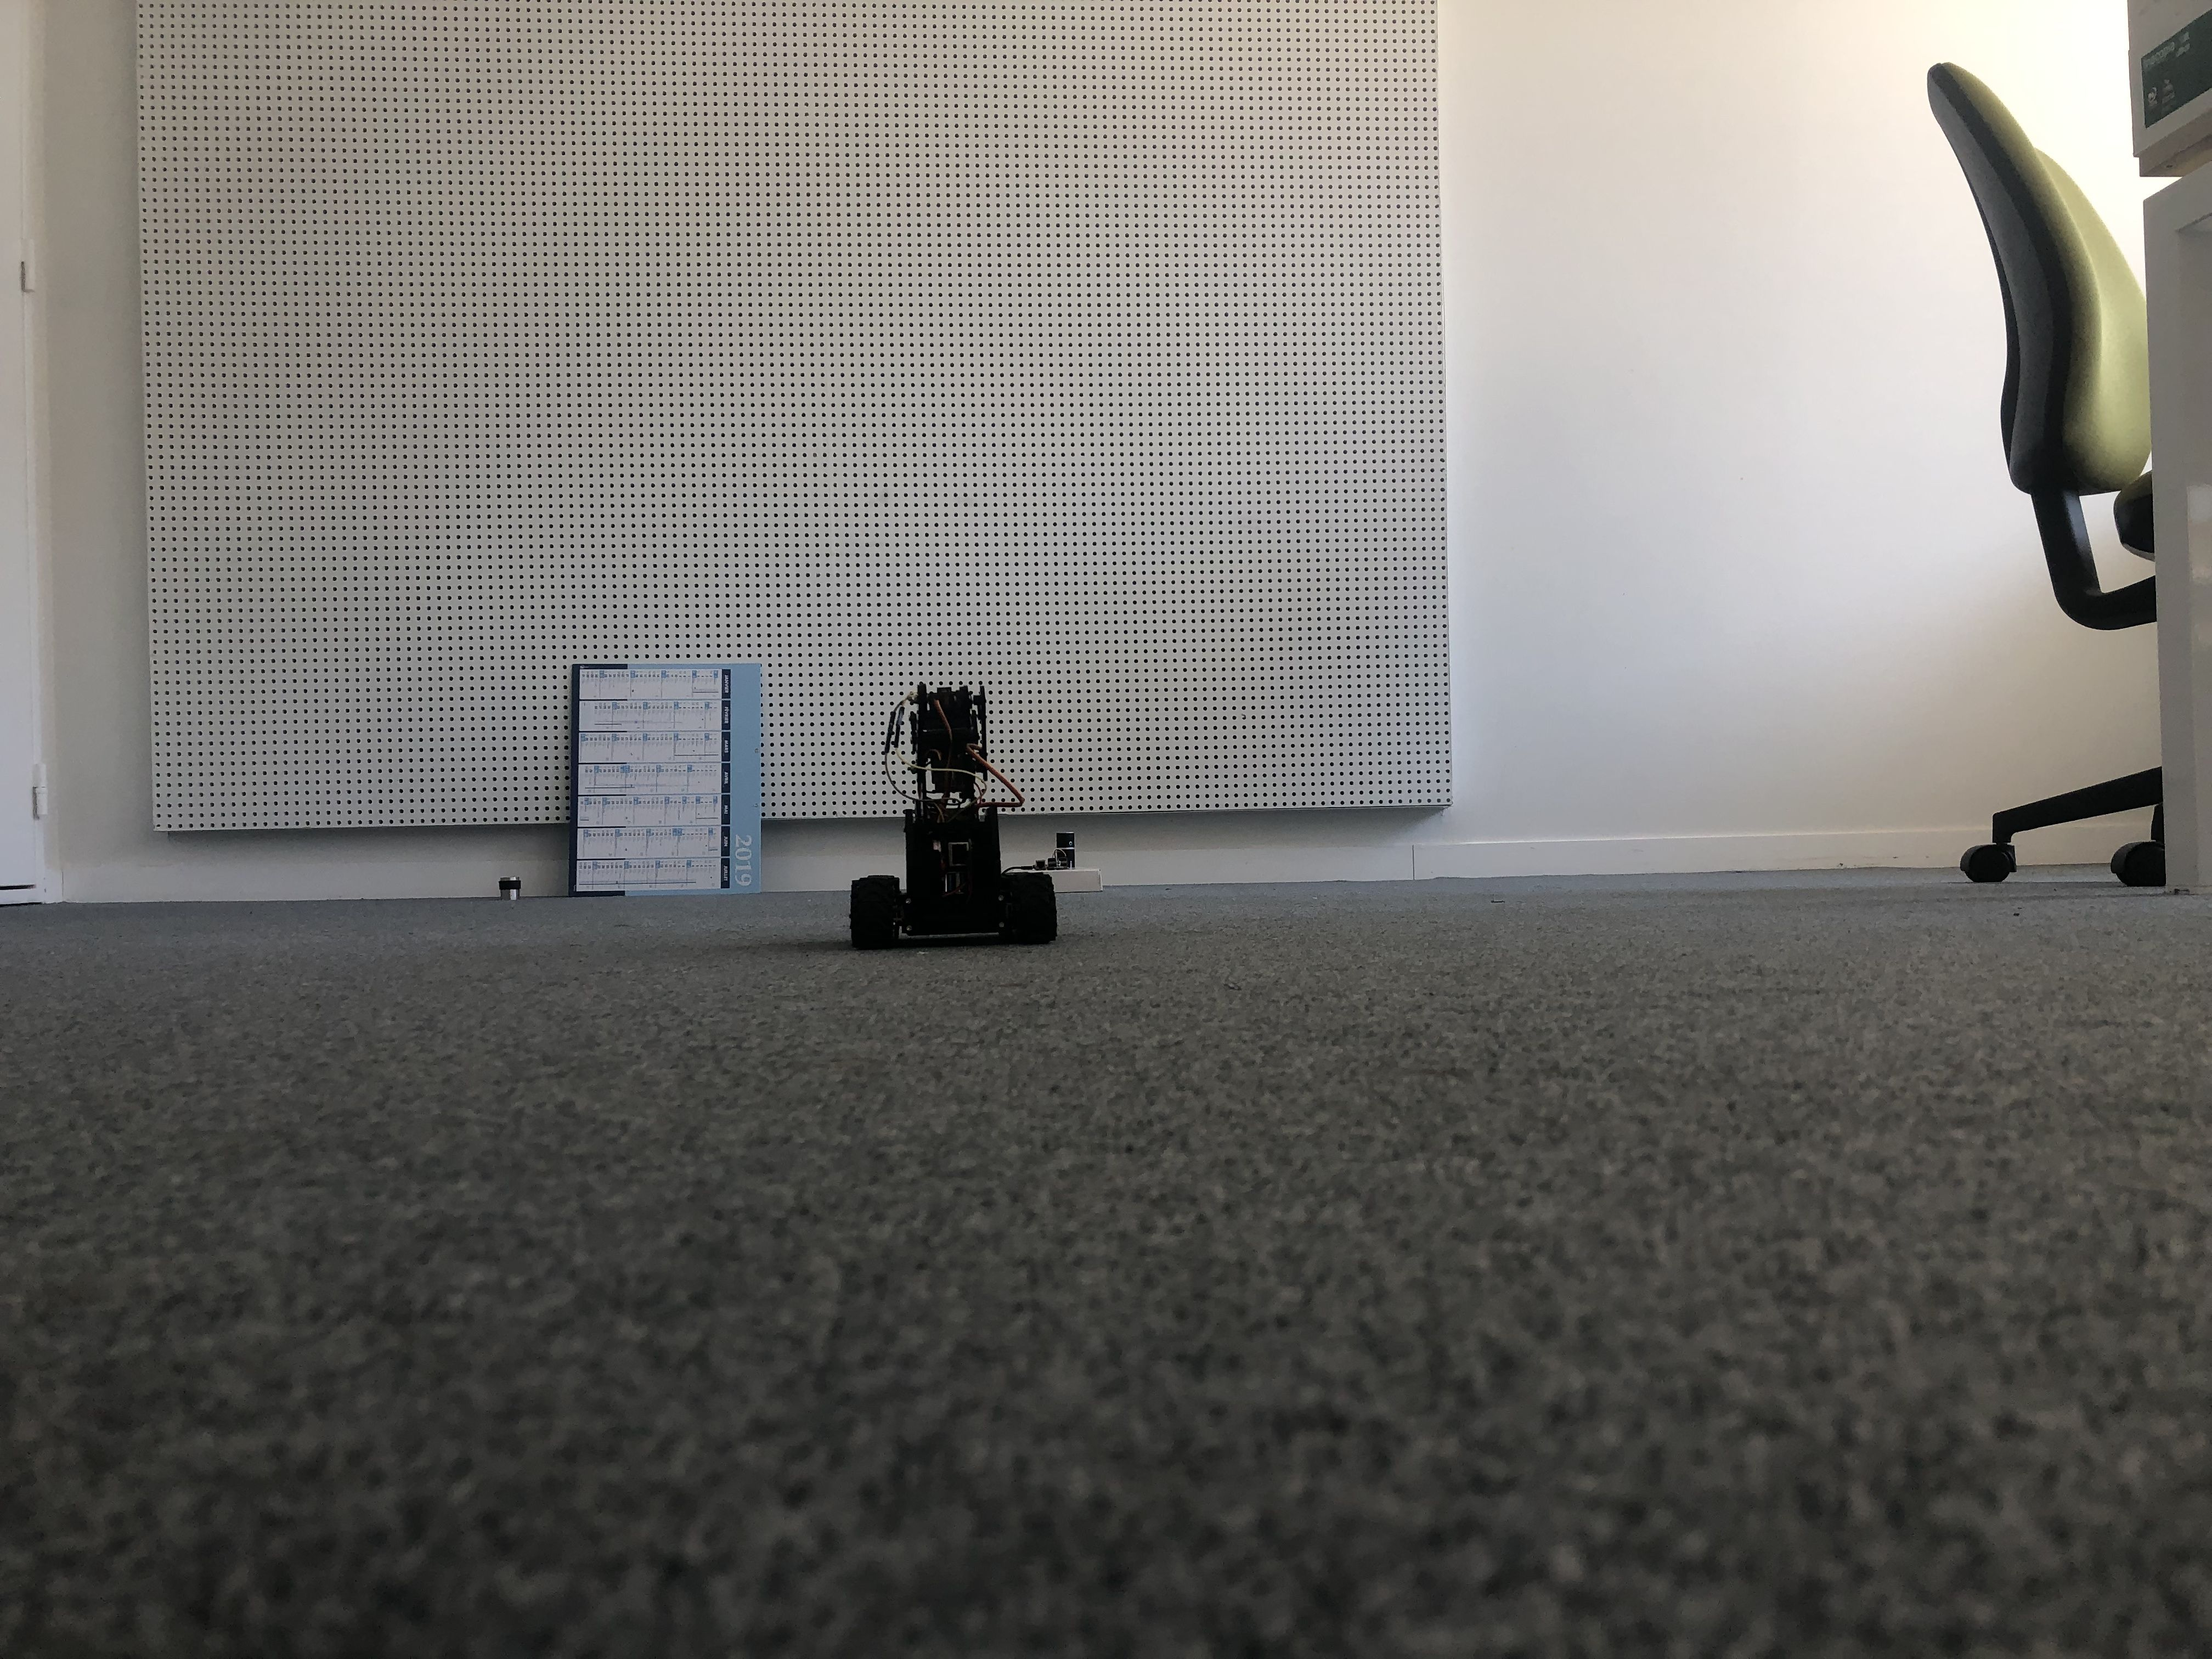rasptank: (841, 681, 1066, 953)
